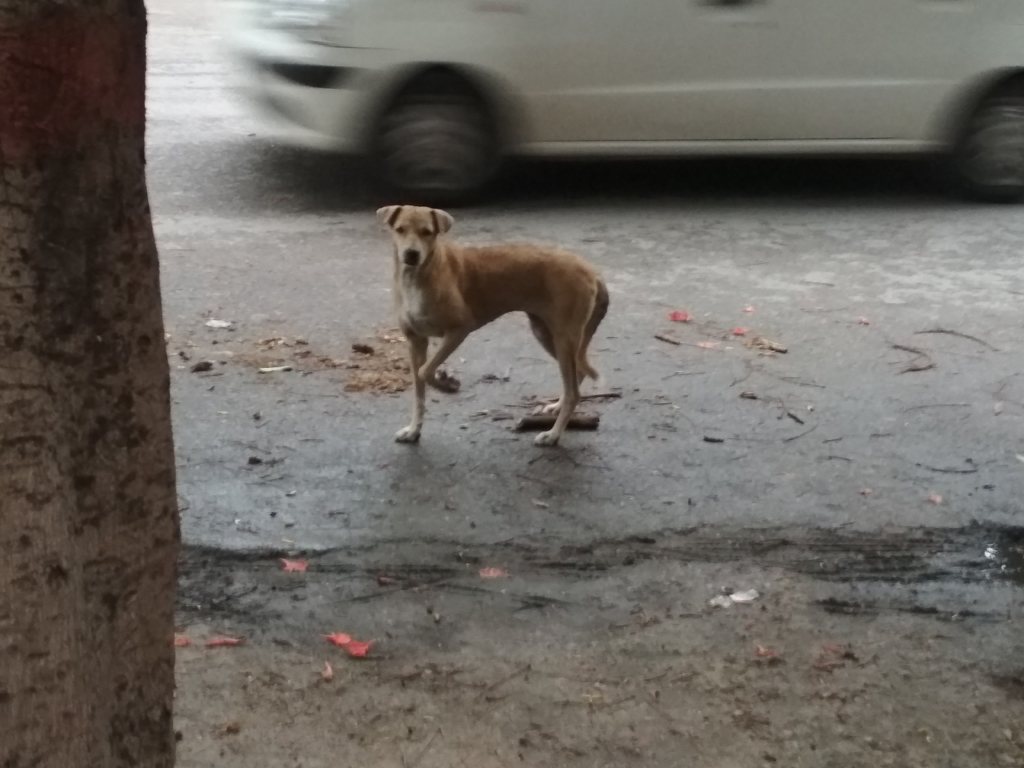dog: (374, 205, 611, 449)
